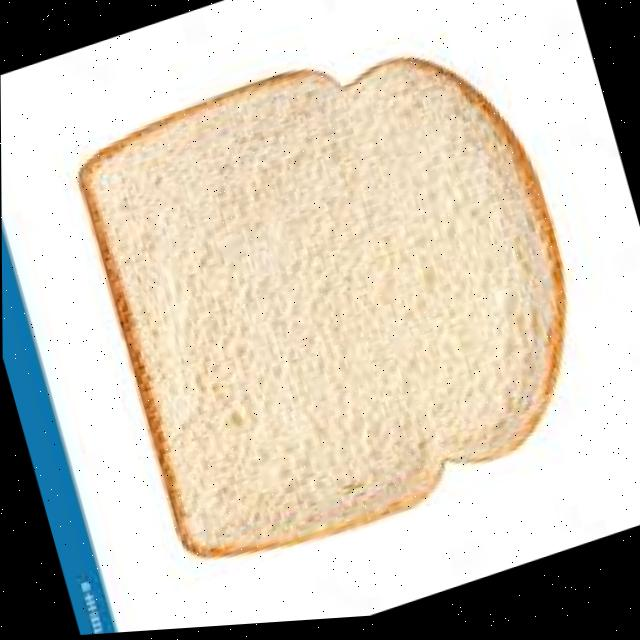Bread: (79, 64, 560, 559)
